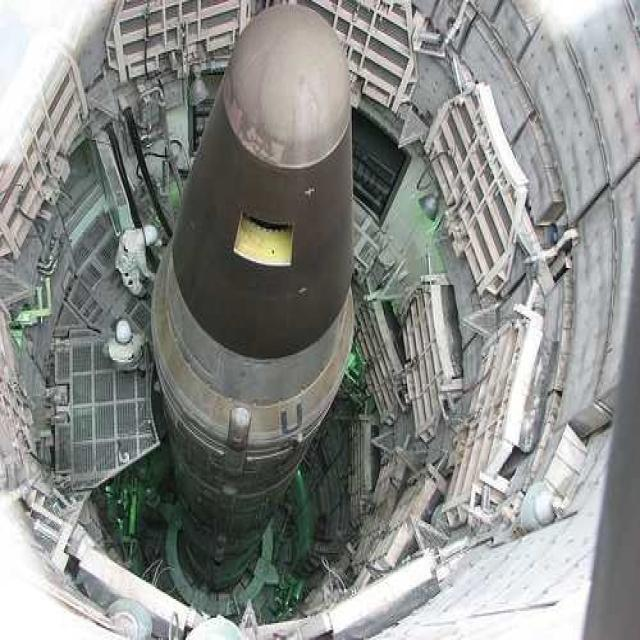missile: (150, 3, 353, 586)
